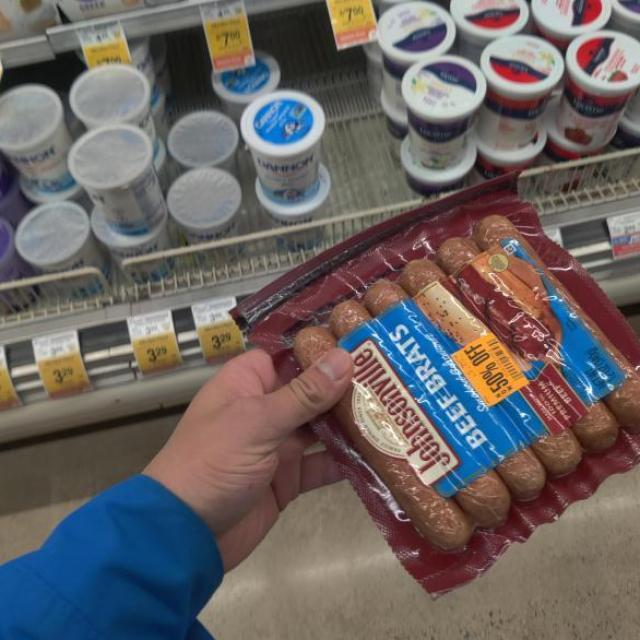Meat: (259, 183, 640, 573)
Yogurt: (70, 125, 170, 238), (479, 35, 566, 151), (402, 56, 488, 171), (559, 32, 640, 147), (242, 92, 323, 200), (16, 203, 111, 294), (379, 2, 455, 112), (0, 85, 76, 192), (170, 166, 243, 262), (168, 112, 238, 165), (212, 49, 282, 100), (453, 0, 529, 39), (534, 0, 612, 37), (606, 0, 640, 26)
